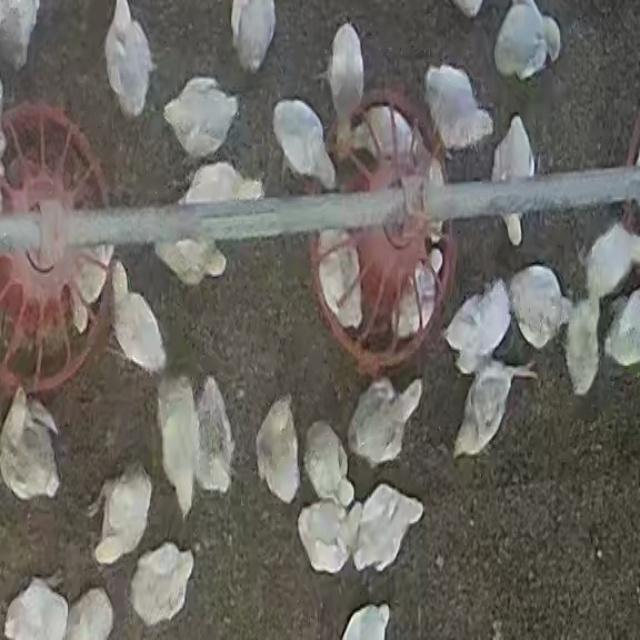chicken: (452, 359, 539, 465), (0, 385, 62, 502), (346, 376, 423, 468), (106, 263, 168, 376), (442, 278, 512, 376), (351, 484, 425, 574), (161, 77, 239, 162), (155, 375, 201, 518), (271, 96, 339, 192), (90, 466, 153, 567), (422, 65, 494, 153), (104, 2, 155, 118), (492, 116, 536, 250), (313, 226, 365, 332), (388, 244, 446, 339), (323, 23, 366, 151), (128, 543, 194, 626), (508, 264, 569, 351), (494, 1, 555, 84), (255, 396, 300, 504), (194, 376, 234, 496), (296, 500, 358, 574), (354, 104, 420, 173), (304, 419, 352, 507), (562, 298, 602, 398), (230, 1, 276, 75), (74, 243, 112, 314)
